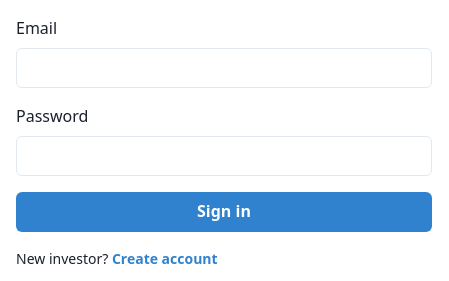
Test: sign in and create account › signs in and confirms the account
The image size is (449, 281).
In the field labelled "Email": point(224, 68) [16,48,432,88], type "ana@example.com"
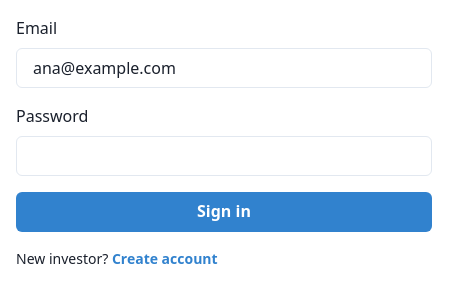
In the password field labelled "Password": point(224, 156) [16,136,432,176], type "correct-horse-42"
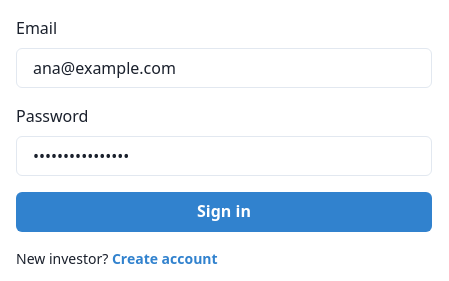
Click the button "Sign in": point(224, 212) [16,192,432,232]
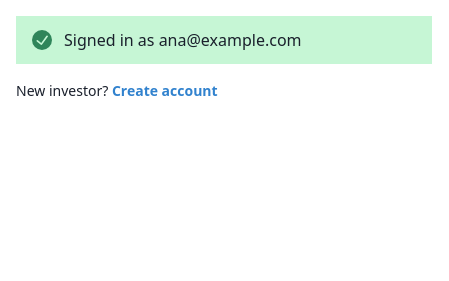
expect the text "Signed in as ana@example.com" is shown: met, box [16,16,432,64]
